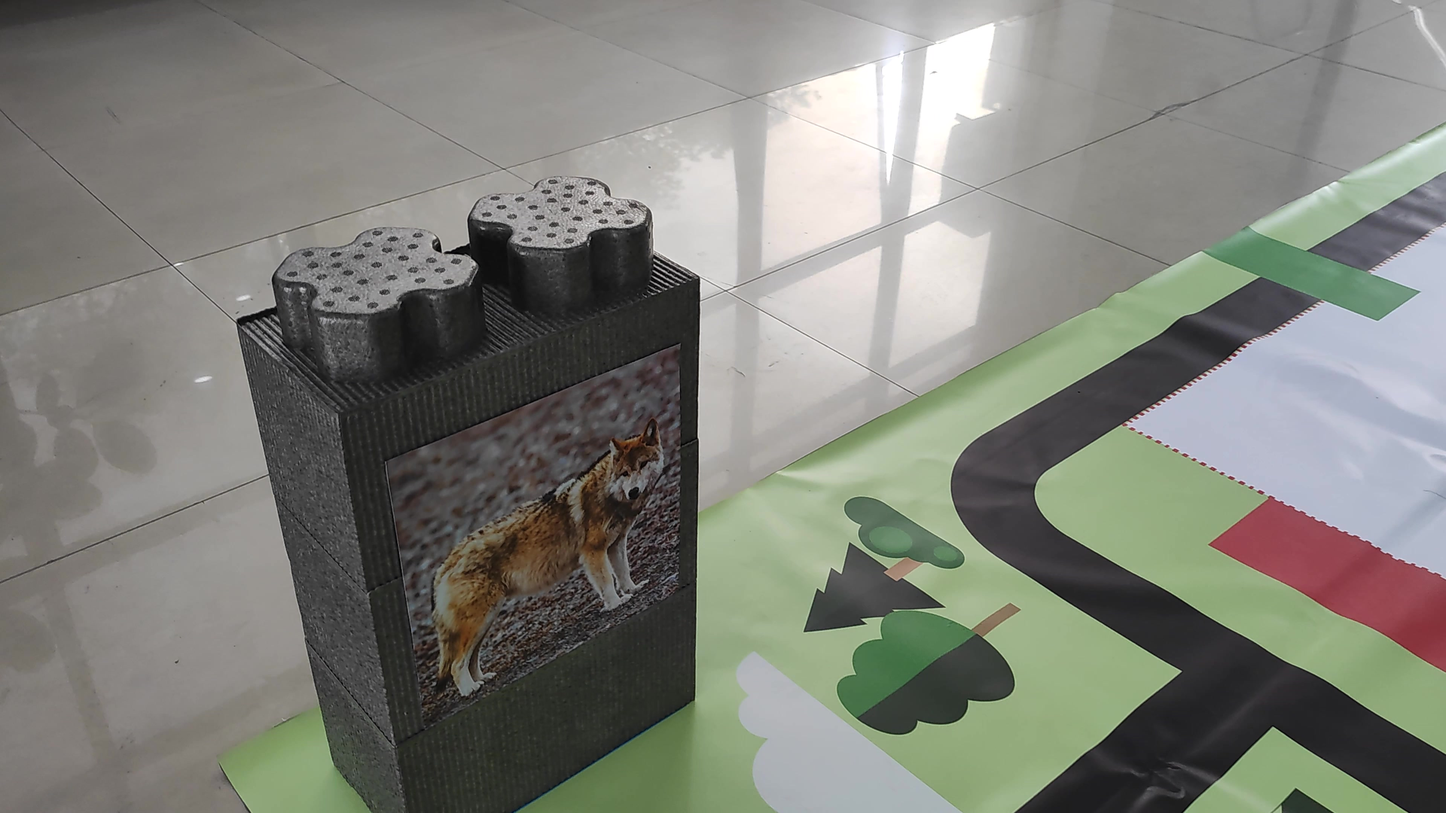wolf: (422, 412, 690, 703)
